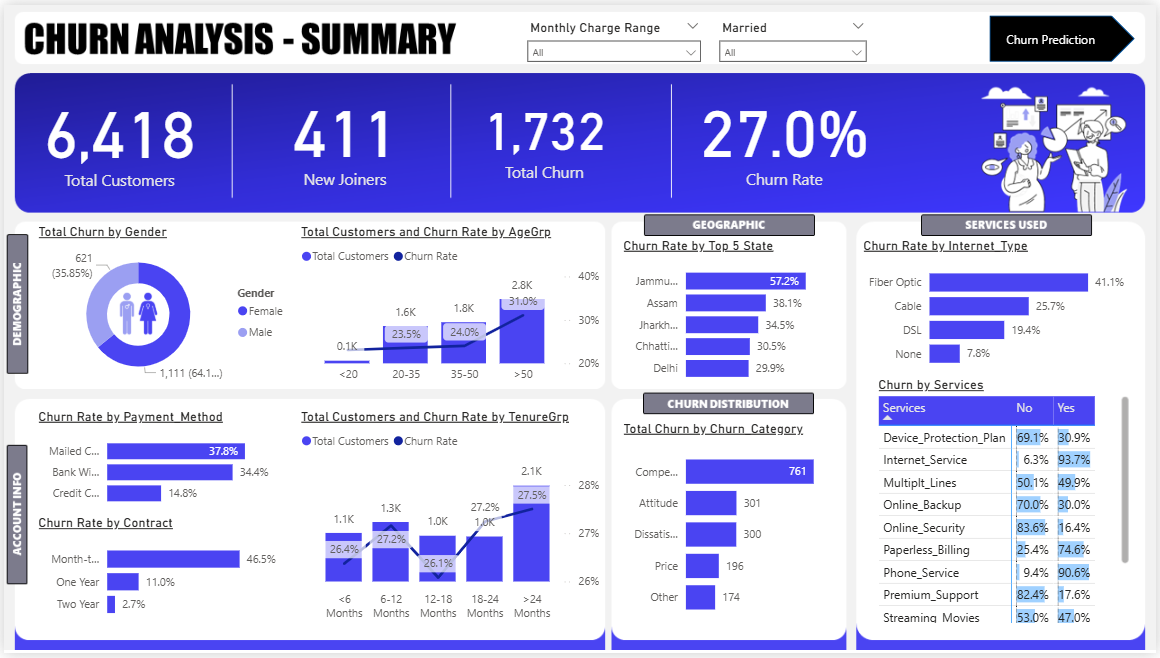

This screenshot's page, from the dashboard's own definition file:
{"tool":"powerbi","page":{"name":"Summary","canvas":[1280,720],"ordinal":0},"visuals":[{"type":"image","box":[95.6,306.6,108.8,70.3],"z":0},{"type":"card","fields":{"Values":["tbl_Measures.Total Customers"]},"box":[0,66.4,256.2,156.6],"z":1000},{"type":"card","fields":{"Values":["tbl_Measures.New Joiners"]},"box":[245.6,69,266.8,151.3],"z":2000},{"type":"card","fields":{"Values":["tbl_Measures.Total Churn"]},"box":[467.2,69,266.8,151.3],"z":3000},{"type":"card","fields":{"Values":["tbl_Measures.Churn Rate"]},"box":[734,69,266.8,151.3],"z":4000},{"type":"donutChart","fields":{"Category":["prod_churn.Gender"],"Y":["tbl_Measures.Total Churn"]},"box":[33.2,242.9,292,184.5],"z":5000},{"type":"clusteredBarChart","fields":{"Category":["prod_churn.Payment_Method"],"Y":["tbl_Measures.Churn Rate"]},"box":[33.2,448.6,273.4,118.1],"z":6000},{"type":"clusteredBarChart","fields":{"Category":["prod_churn.Contract"],"Y":["tbl_Measures.Churn Rate"]},"box":[33.2,566.8,273.4,124.8],"z":7000},{"type":"lineStackedColumnComboChart","fields":{"Category":["mapping AgeGrp.AgeGrp"],"Y":["tbl_Measures.Total Customers"],"Y2":["tbl_Measures.Churn Rate"]},"box":[325.2,242.9,341.1,184.5],"z":8000},{"type":"lineStackedColumnComboChart","fields":{"Y":["tbl_Measures.Total Customers"],"Category":["mapping TenureGrp.TenureGrp"],"Y2":["tbl_Measures.Churn Rate"]},"box":[325.2,448.6,341.1,242.9],"z":9000},{"type":"clusteredBarChart","title":"Churn Rate by Top 5 State","fields":{"Y":["tbl_Measures.Churn Rate"],"Category":["prod_churn.State"]},"box":[683.6,257.5,245.6,169.9],"z":10000},{"type":"clusteredBarChart","fields":{"Category":["prod_churn.Churn_Category"],"Y":["tbl_Measures.Total Churn"]},"box":[683.6,461.9,245.6,229.6],"z":11000},{"type":"clusteredBarChart","fields":{"Category":["prod_churn.Internet_Type"],"Y":["tbl_Measures.Churn Rate"]},"box":[950.4,257.5,305.3,155.3],"z":12000},{"type":"pivotTable","title":"Churn by Services ","fields":{"Rows":["prod_Services.Services"],"Columns":["prod_Services.Status"],"Values":["Sum(prod_Services.Churn Status)"]},"box":[967.1,412.9,288.6,278.6],"z":13000},{"type":"slicer","fields":{"Values":["prod_Services.Married"]},"box":[784.5,11.9,183.2,67.7],"z":14000},{"type":"slicer","fields":{"Values":["prod_Services.Monthly Charge Status"]},"box":[572.1,11.9,212.4,54.4],"z":15000},{"type":"shape","box":[1094.3,11.4,161.4,51.4],"z":16000}]}

Visuals, with their boxes in screenshot pixels (x1, y1, x2, y2), scaled from the page's 1280x720 canvas onto the 1160x658 screenshot:
image: BBox(87, 280, 185, 344)
card - tbl_Measures.Total Customers: BBox(0, 61, 232, 204)
card - tbl_Measures.New Joiners: BBox(223, 63, 464, 201)
card - tbl_Measures.Total Churn: BBox(423, 63, 665, 201)
card - tbl_Measures.Churn Rate: BBox(665, 63, 907, 201)
donutChart - prod_churn.Gender x tbl_Measures.Total Churn: BBox(30, 222, 295, 391)
clusteredBarChart - prod_churn.Payment_Method x tbl_Measures.Churn Rate: BBox(30, 410, 278, 518)
clusteredBarChart - prod_churn.Contract x tbl_Measures.Churn Rate: BBox(30, 518, 278, 632)
lineStackedColumnComboChart - mapping AgeGrp.AgeGrp x tbl_Measures.Total Customers: BBox(295, 222, 604, 391)
lineStackedColumnComboChart - tbl_Measures.Total Customers x mapping TenureGrp.TenureGrp: BBox(295, 410, 604, 632)
"Churn Rate by Top 5 State" clusteredBarChart: BBox(620, 235, 842, 391)
clusteredBarChart - prod_churn.Churn_Category x tbl_Measures.Total Churn: BBox(620, 422, 842, 632)
clusteredBarChart - prod_churn.Internet_Type x tbl_Measures.Churn Rate: BBox(861, 235, 1138, 377)
"Churn by Services " pivotTable: BBox(876, 377, 1138, 632)
slicer - prod_Services.Married: BBox(711, 11, 877, 73)
slicer - prod_Services.Monthly Charge Status: BBox(518, 11, 711, 61)
shape: BBox(992, 10, 1138, 57)
